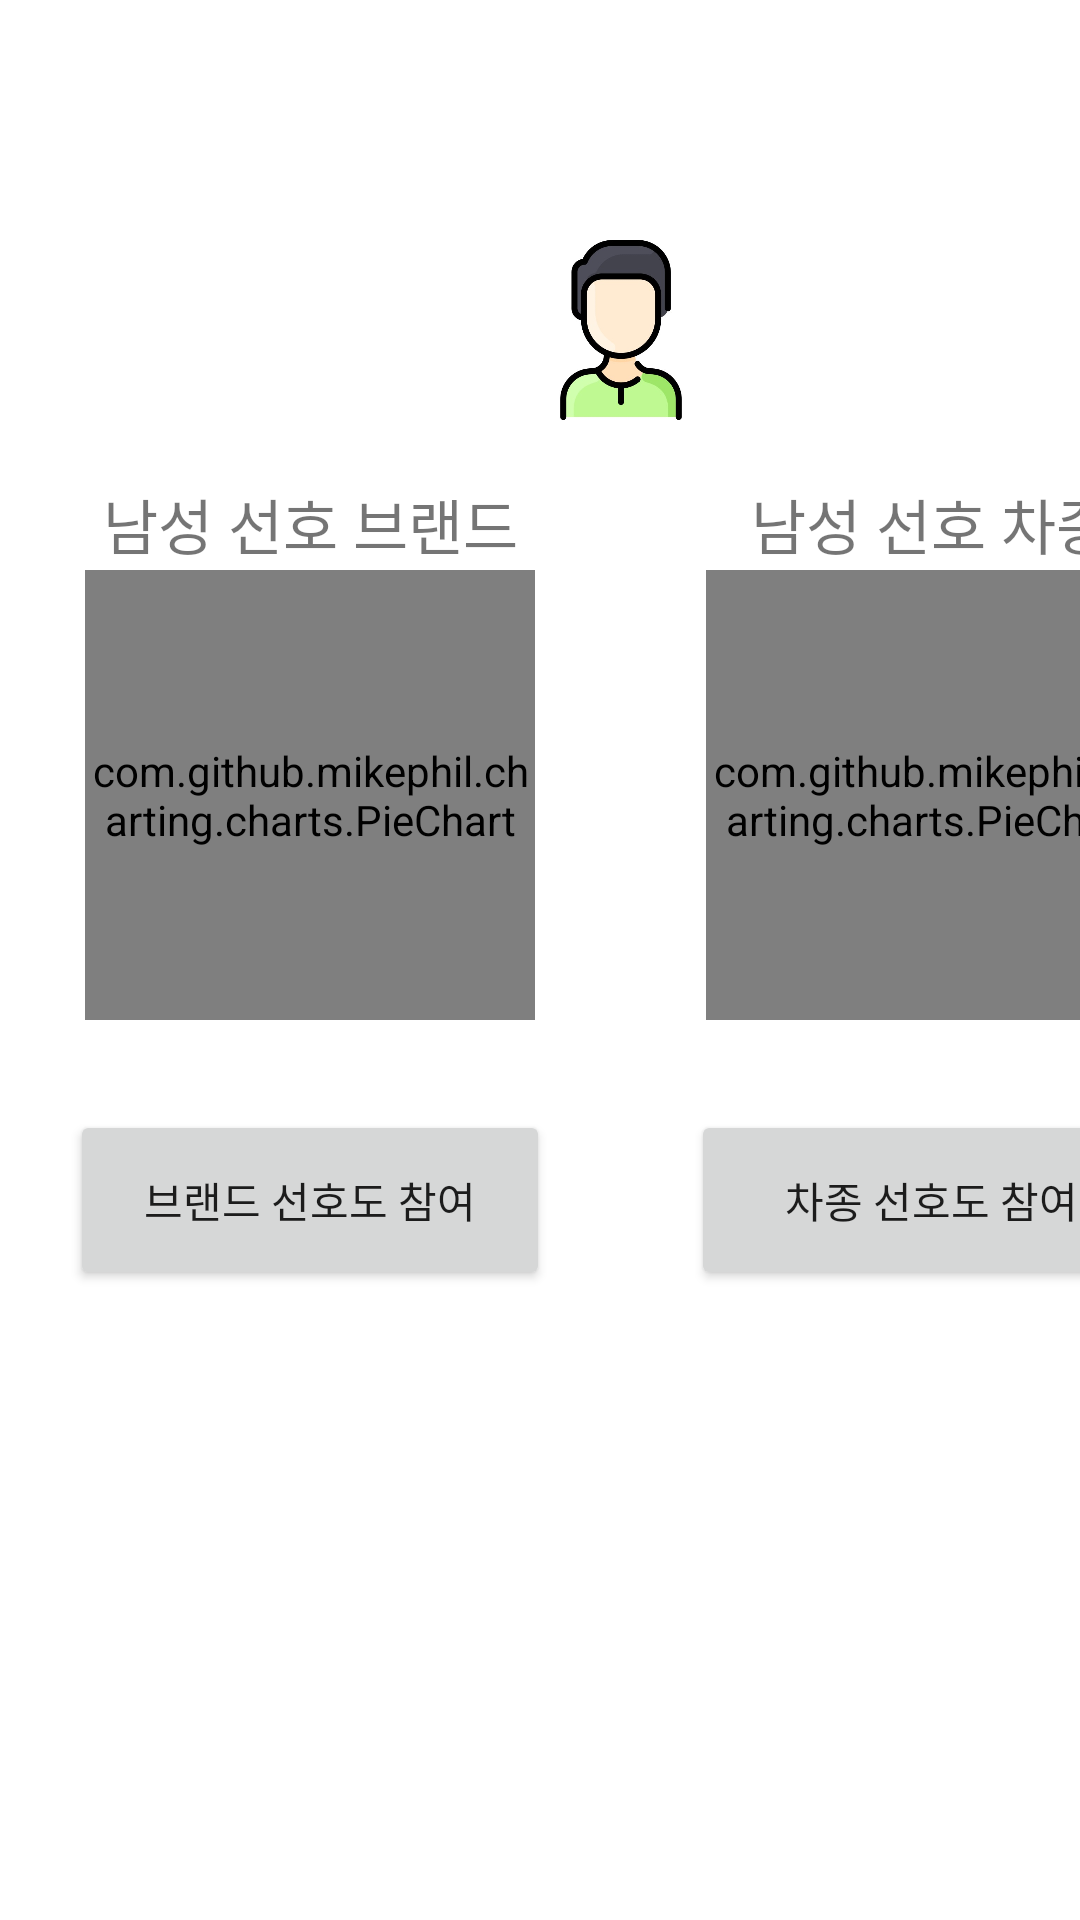

Screen size 1080 × 1920. Icon name, then its center in pixels as [x,y]:
men: [621,330]
